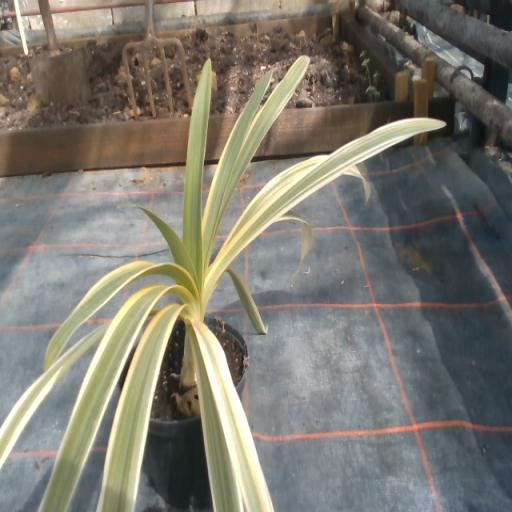Agapanthus-praecox: (205, 117, 444, 300), (39, 284, 176, 511), (97, 305, 184, 511), (215, 57, 308, 235), (45, 261, 190, 368), (0, 325, 109, 467), (194, 324, 273, 511), (202, 74, 270, 267), (226, 156, 327, 242), (193, 342, 242, 511), (128, 204, 196, 281), (184, 63, 210, 262), (227, 269, 266, 333), (275, 211, 313, 276), (345, 165, 370, 199)
